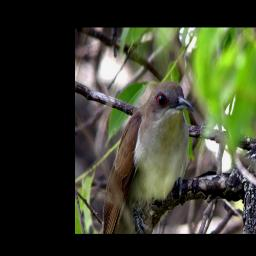Cuckoo: (102, 80, 194, 234)
